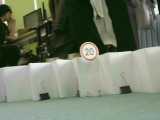speed_20: (79, 42, 99, 62)
